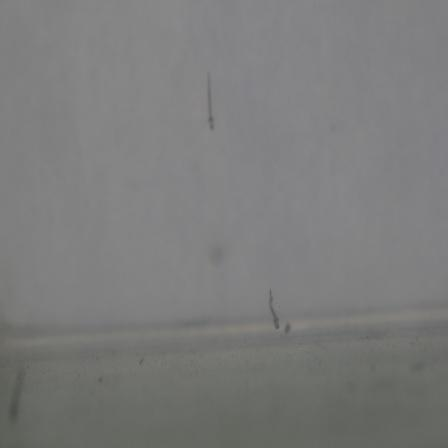Jentik-Nyamuk: (266, 286, 282, 331)
